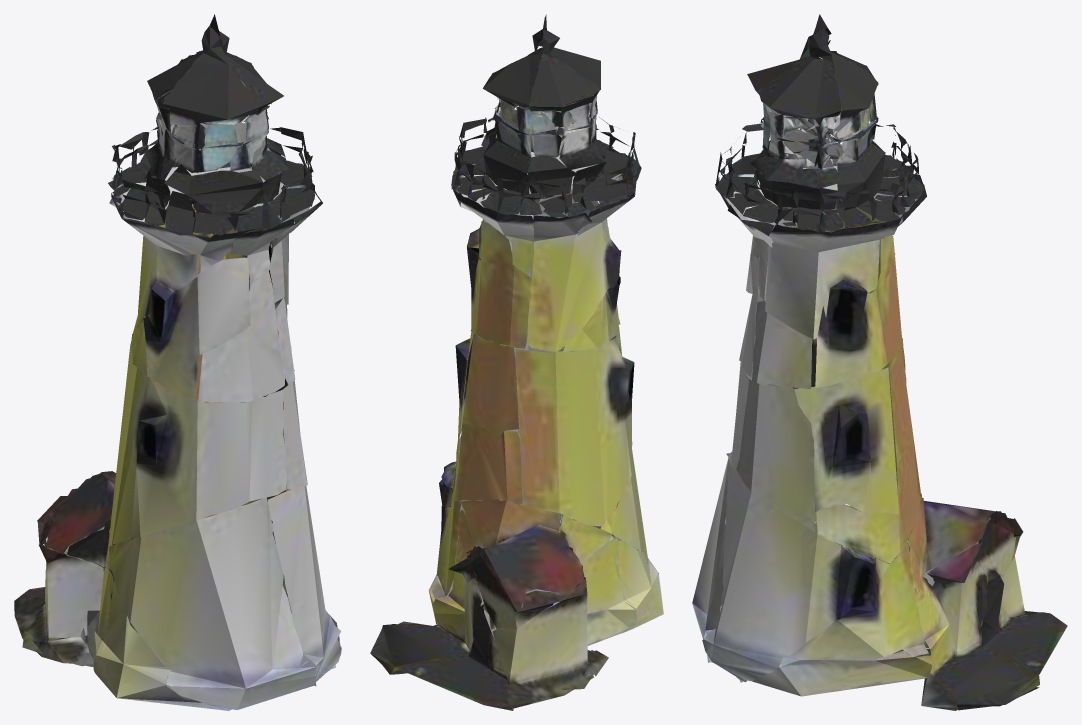
File: loc_cc_bld_highland_ai.glb
3 views of the same model, side by side, from view 1: azimuth 30°, elevation 25°; view 2: azimuth 150°, elevation 25°; view 3: azimuth 270°, elevation 25° (orthographic). The views are drawn at different scales.
Visible parts, largest first — view 1: tripo_node_51f5c670-9a07-4429-8e61-5ad6b0832542; view 2: tripo_node_51f5c670-9a07-4429-8e61-5ad6b0832542; view 3: tripo_node_51f5c670-9a07-4429-8e61-5ad6b0832542.
Boxes of the visible parts, bbox=[...] form: tripo_node_51f5c670-9a07-4429-8e61-5ad6b0832542: bbox=[14, 14, 341, 710]; tripo_node_51f5c670-9a07-4429-8e61-5ad6b0832542: bbox=[370, 14, 663, 710]; tripo_node_51f5c670-9a07-4429-8e61-5ad6b0832542: bbox=[692, 14, 1067, 710].
Bounding box in the file's own units: 1.3 × 3.61 × 1.89.
1 material, 1 textured.
